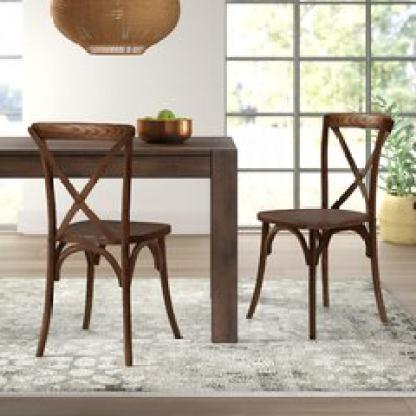chair: (245, 93, 404, 346), (29, 119, 185, 373)
light: (49, 0, 184, 66)
table: (0, 134, 240, 340)
